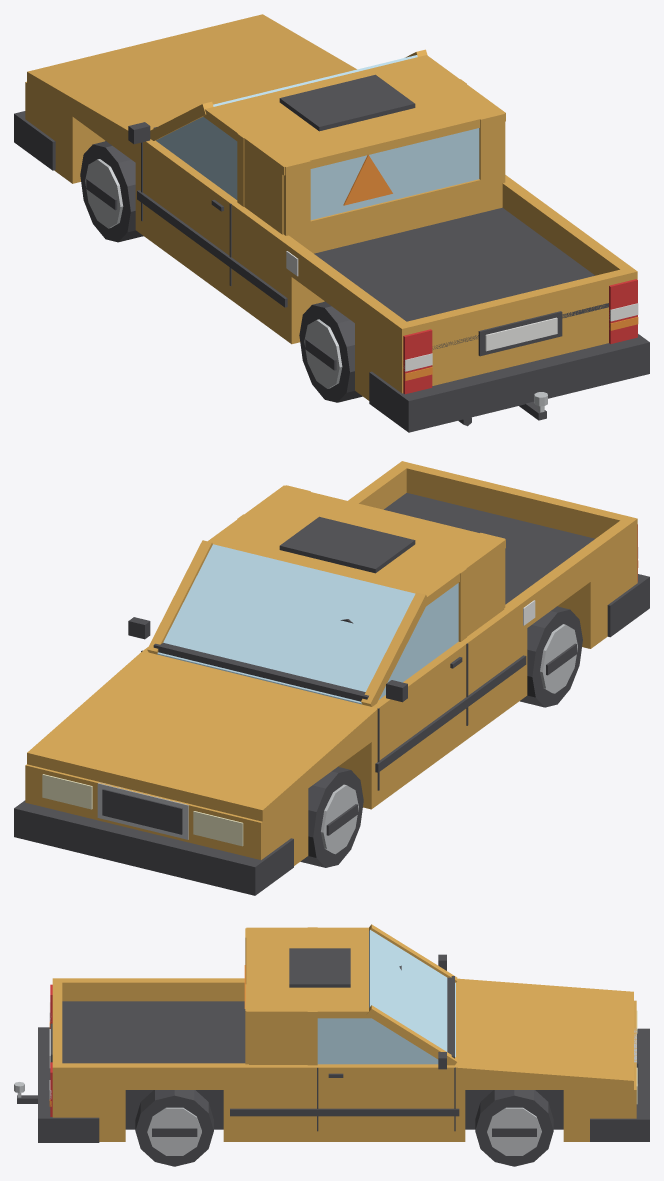
File: epa.glb
The picture shows the model from 3 angles, top to bottom: view 1: azimuth 30°, elevation 25°; view 2: azimuth 150°, elevation 25°; view 3: azimuth 270°, elevation 25°; orthographic projection. The views are drawn at different scales.
Visible parts, largest first — view 1: body, wheel_FL, wheel_RL; view 2: body, wheel_RL, wheel_FL; view 3: body, wheel_RR, wheel_FR.
Part boxes in pixels (x1,y1,x2,y2): body: (14, 14, 649, 432); wheel_FL: (80, 141, 143, 242); wheel_RL: (299, 301, 362, 402); body: (14, 461, 649, 895); wheel_RL: (520, 606, 582, 707); wheel_FL: (300, 767, 363, 867); body: (14, 924, 649, 1142); wheel_RR: (135, 1090, 213, 1166); wheel_FR: (475, 1090, 553, 1166).
Size of the model in its own units: 2 by 1.41 by 5.19.
